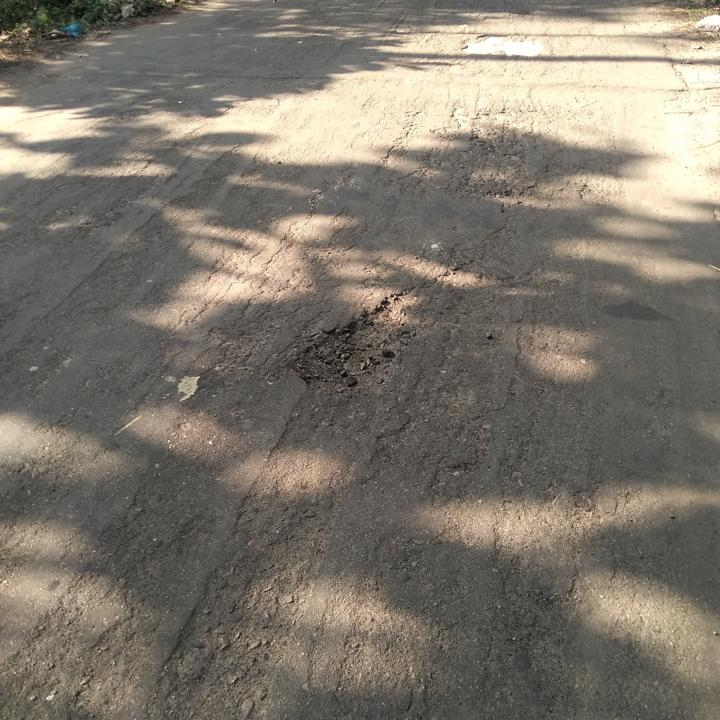pothole: (285, 291, 418, 398)
